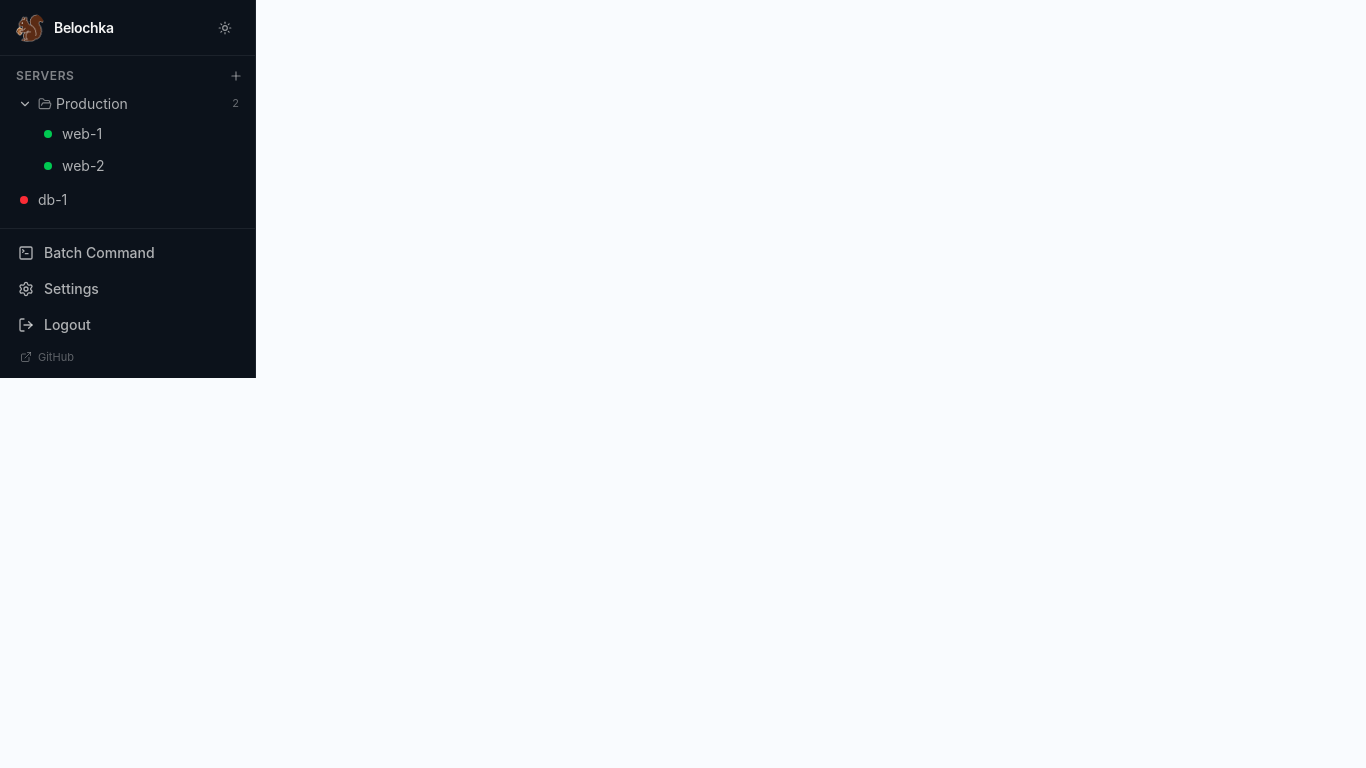
Test: BatchCommandDialog › opens from the sidebar button in Compose mode
Click the button "Batch Command".
click(128, 253)  # box [8,237,247,269]
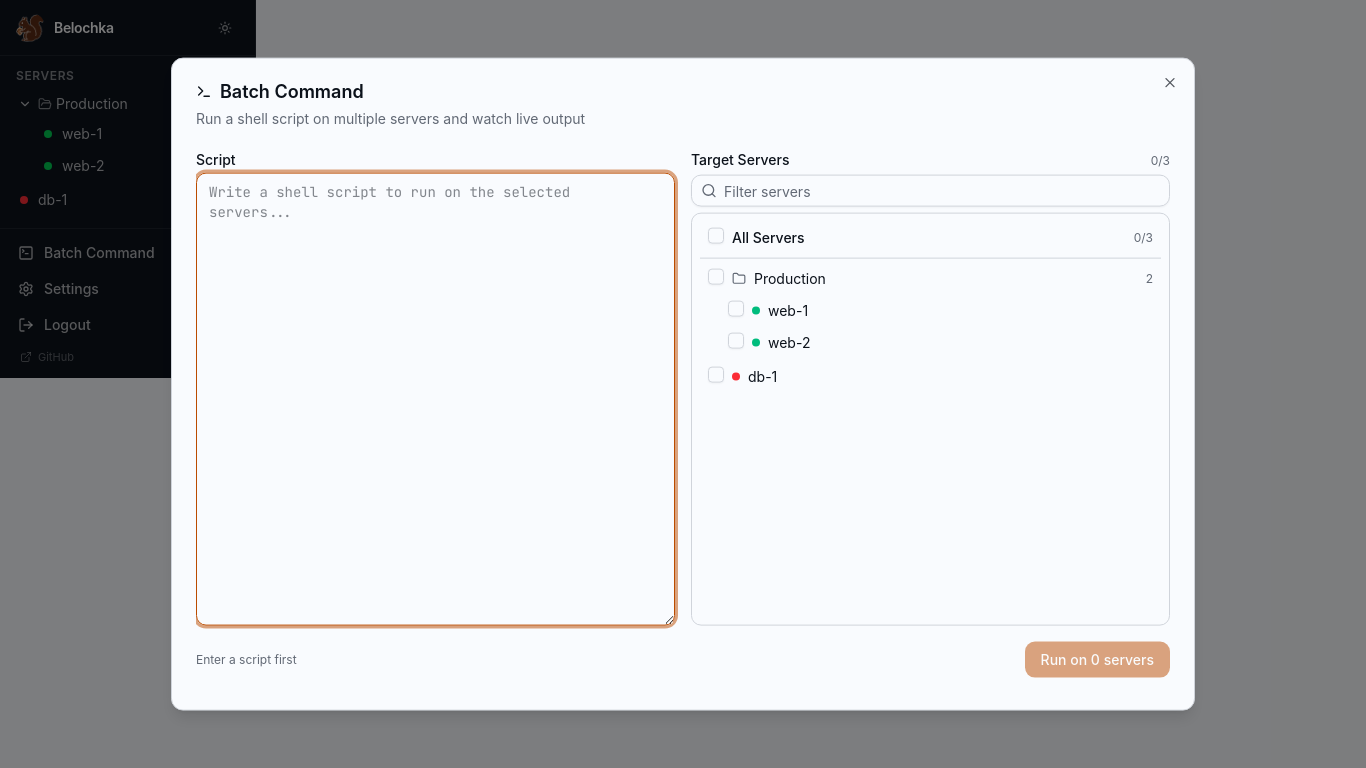
Expected: the dialog is shown
Expected: the text box labelled "Script" is shown, [196,173,675,625]
Expected: the text "Production" is shown, [754,269,826,289]
